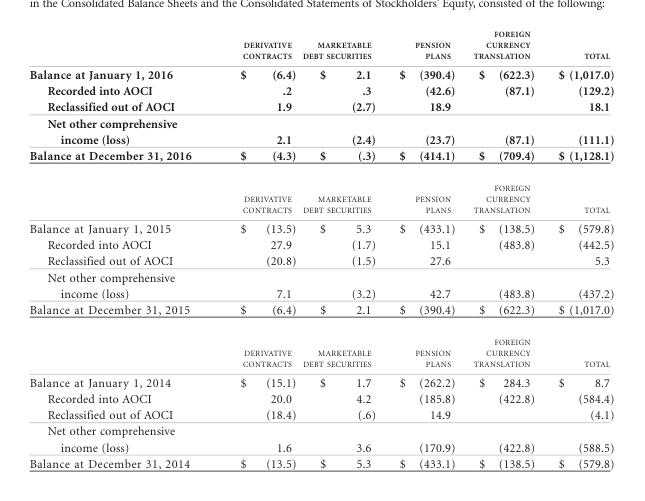table: (28, 28, 613, 469)
table column: (28, 28, 215, 469), (298, 28, 386, 469), (215, 28, 298, 469), (463, 28, 545, 469), (386, 28, 463, 469), (545, 28, 613, 469)
table column header: (28, 28, 613, 64)
table row: (28, 172, 613, 218), (28, 326, 613, 372), (28, 28, 613, 64), (28, 114, 613, 147), (28, 269, 613, 301), (28, 423, 613, 455), (28, 147, 613, 172), (28, 301, 613, 326), (28, 64, 613, 82), (28, 218, 613, 236), (28, 372, 613, 390), (28, 252, 613, 269), (28, 406, 613, 423), (28, 82, 613, 98), (28, 98, 613, 114), (28, 236, 613, 252), (28, 390, 613, 406), (28, 455, 613, 469)
table spanning cell: (28, 147, 215, 218), (28, 301, 215, 372)
